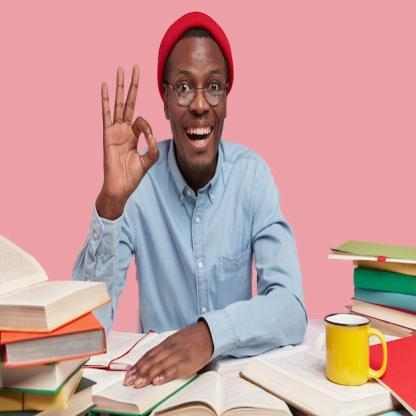ok: (98, 60, 162, 204)
